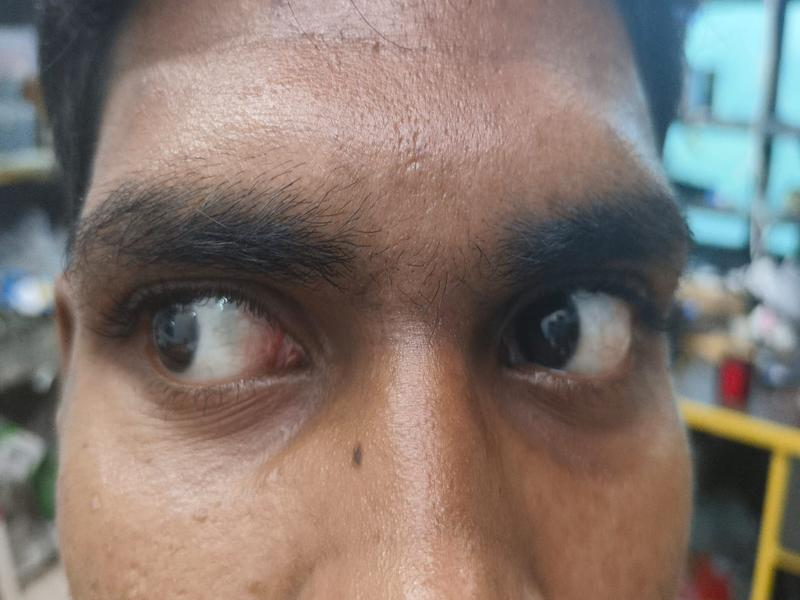EYE RIGHT: (148, 297, 289, 384), (522, 288, 645, 373)
